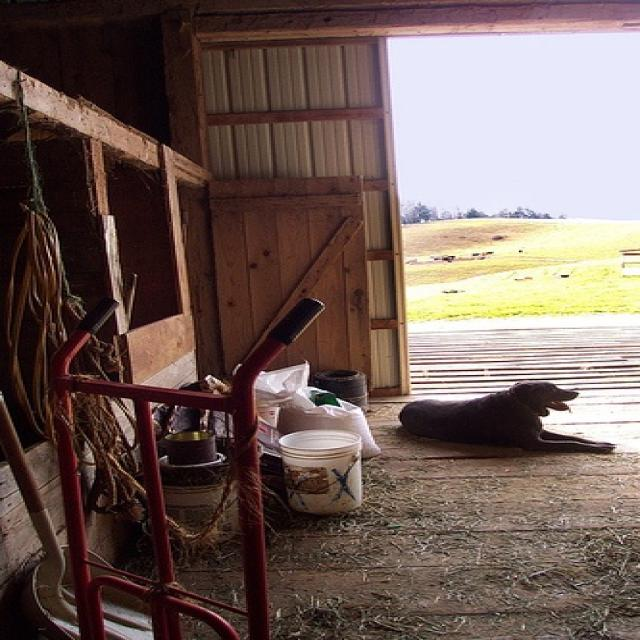dog: (400, 380, 617, 454)
